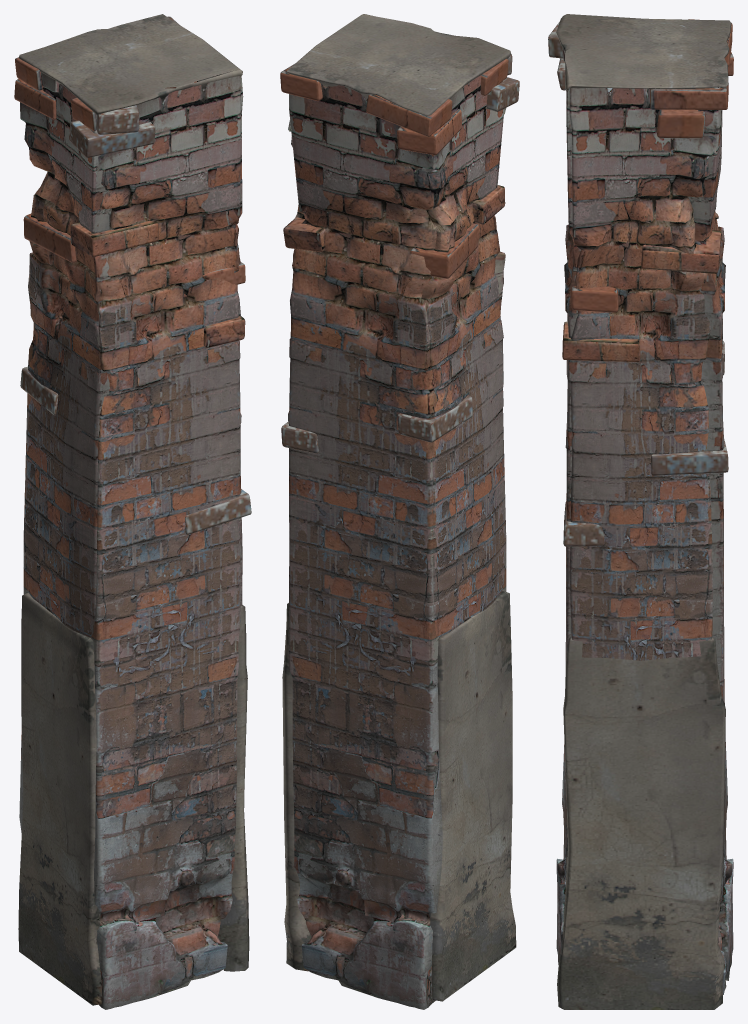
The model's file is sm_Wall_01_05.fbx.
3 renders of one model, left to right at view 1: azimuth 30°, elevation 25°; view 2: azimuth 150°, elevation 25°; view 3: azimuth 270°, elevation 25°, orthographic. The views are drawn at different scales.
Visible parts, largest first — view 1: sm_Wall_01_05_LOD0; view 2: sm_Wall_01_05_LOD0; view 3: sm_Wall_01_05_LOD0.
Part boxes in pixels (x1=…): sm_Wall_01_05_LOD0: x1=14, y1=14, x2=251, y2=1009; sm_Wall_01_05_LOD0: x1=280, y1=14, x2=519, y2=1009; sm_Wall_01_05_LOD0: x1=548, y1=14, x2=733, y2=1009.
Size of the model in its own units: 57.98 by 60.95 by 320.
